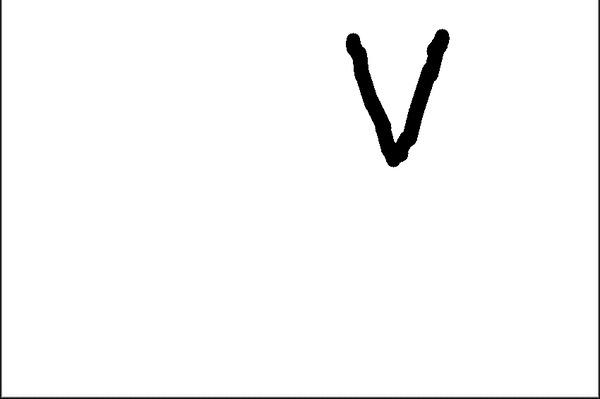V: (339, 18, 470, 168)
